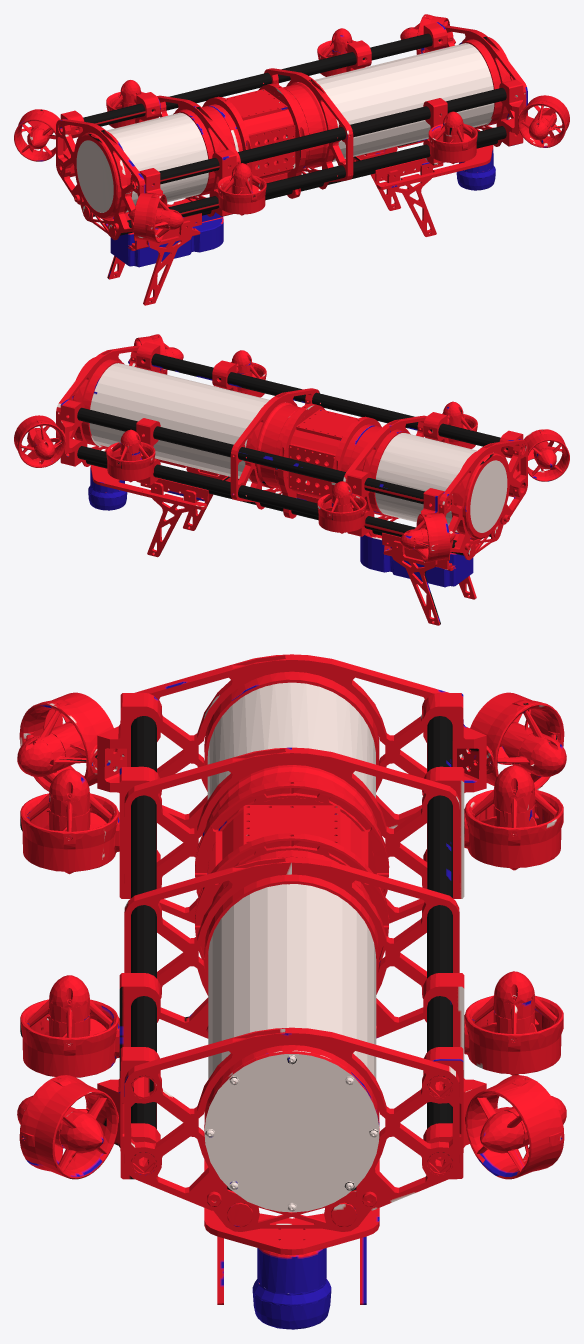
The model's file is kingfisher.dae.
3 renders of one model, top to bottom at view 1: azimuth 30°, elevation 25°; view 2: azimuth 150°, elevation 25°; view 3: azimuth 270°, elevation 25°, orthographic. The views are drawn at different scales.
Parts seen in each view (by area): view 1: kingfisher-export; view 2: kingfisher-export; view 3: kingfisher-export.
Boxes of the visible parts, x1=… form: kingfisher-export: x1=14, y1=14, x2=569, y2=305; kingfisher-export: x1=14, y1=334, x2=569, y2=625; kingfisher-export: x1=17, y1=654, x2=566, y2=1329.
Size of the model in its own units: 0.9865 by 0.5382 by 0.366.
1 material, 1 textured.
